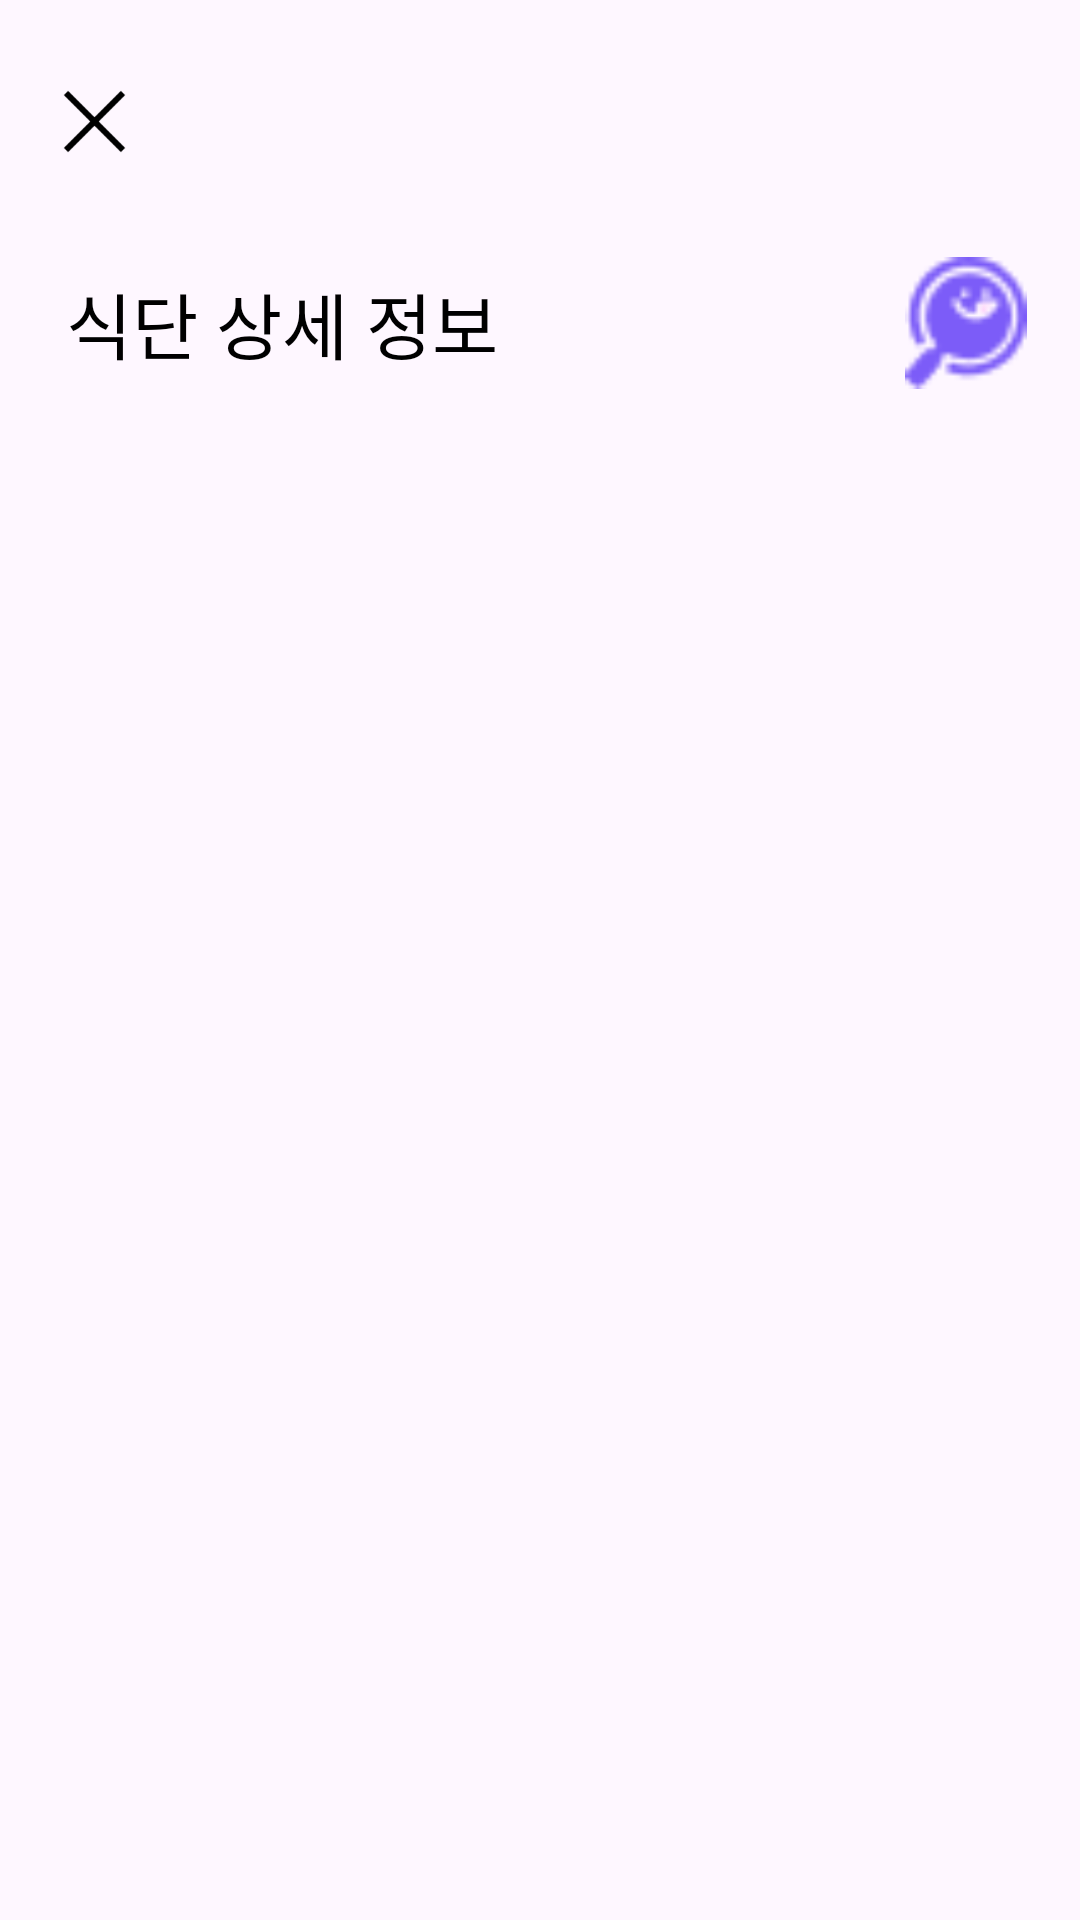

Named icons in this screenshot (1080px x 1920px) and their bounding boxes, (x1, y1, x2, y2):
cancel: (64, 91, 125, 152)
